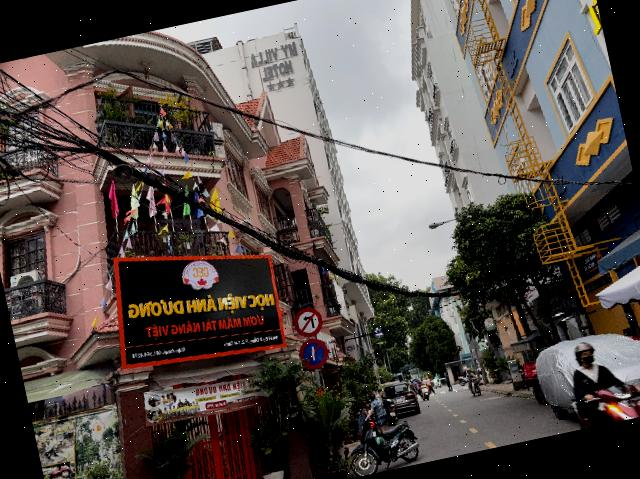cam-do-xe-ngay-le: (296, 336, 332, 372)
cam-re-phai: (290, 304, 326, 340)
